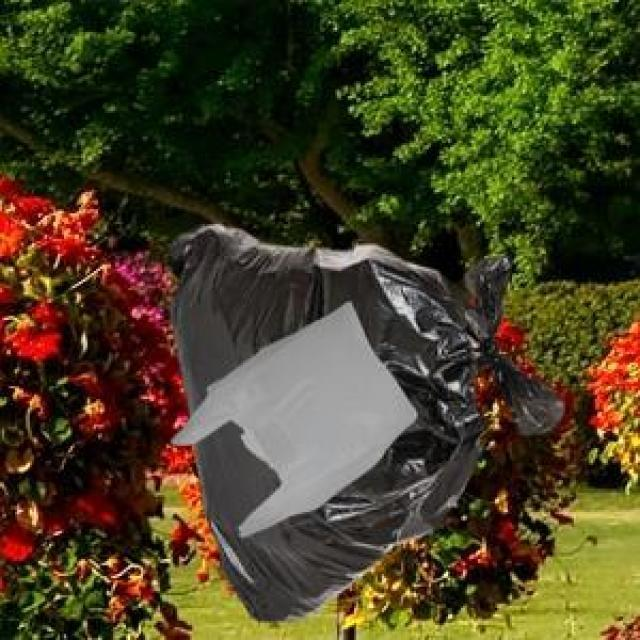miscellaneous trash: (164, 220, 559, 619)
